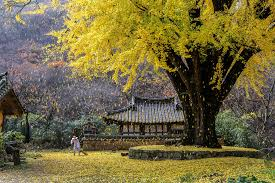flower: (68, 2, 242, 82)
tree: (81, 3, 272, 145)
